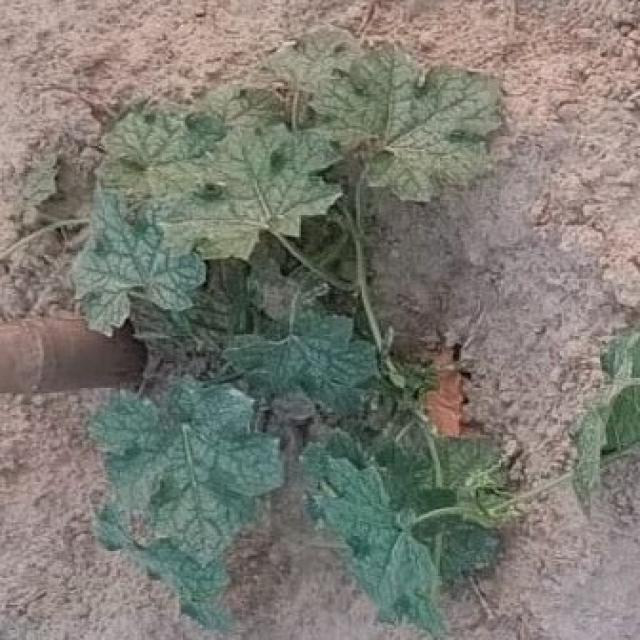plant: (74, 28, 510, 636), (574, 330, 638, 501)
